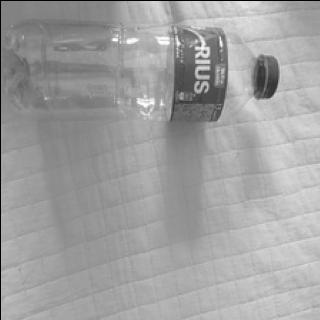plastic_bottles: (0, 19, 285, 126)
